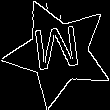M_S: (32, 25, 85, 81)
